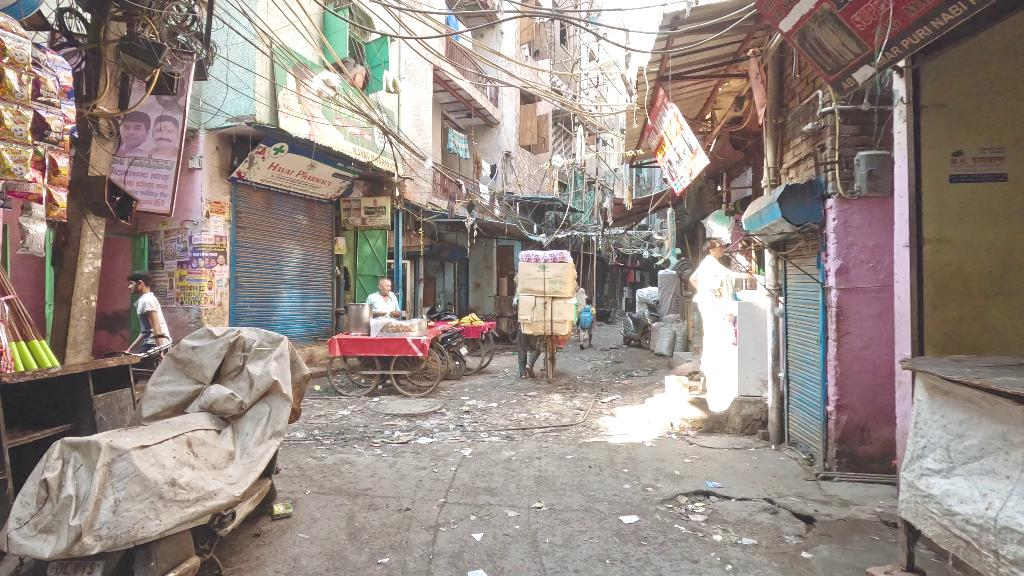garbage: (272, 499, 295, 522), (413, 432, 439, 451), (619, 509, 641, 529), (467, 565, 487, 576)
